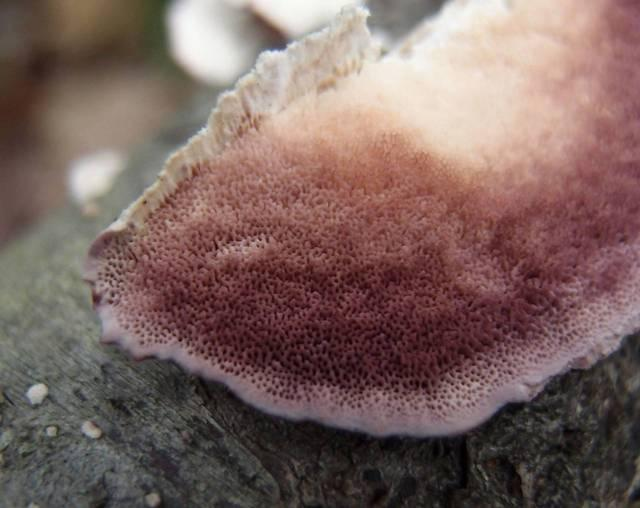poisonous_mushroom: (81, 0, 639, 440)
